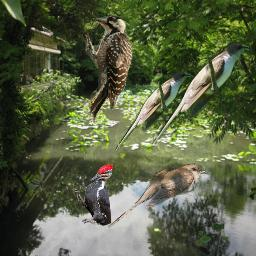Cuckoo: (151, 42, 249, 147), (108, 163, 209, 228), (114, 71, 191, 152)
Woodpecker: (83, 13, 133, 125), (73, 164, 113, 226)
